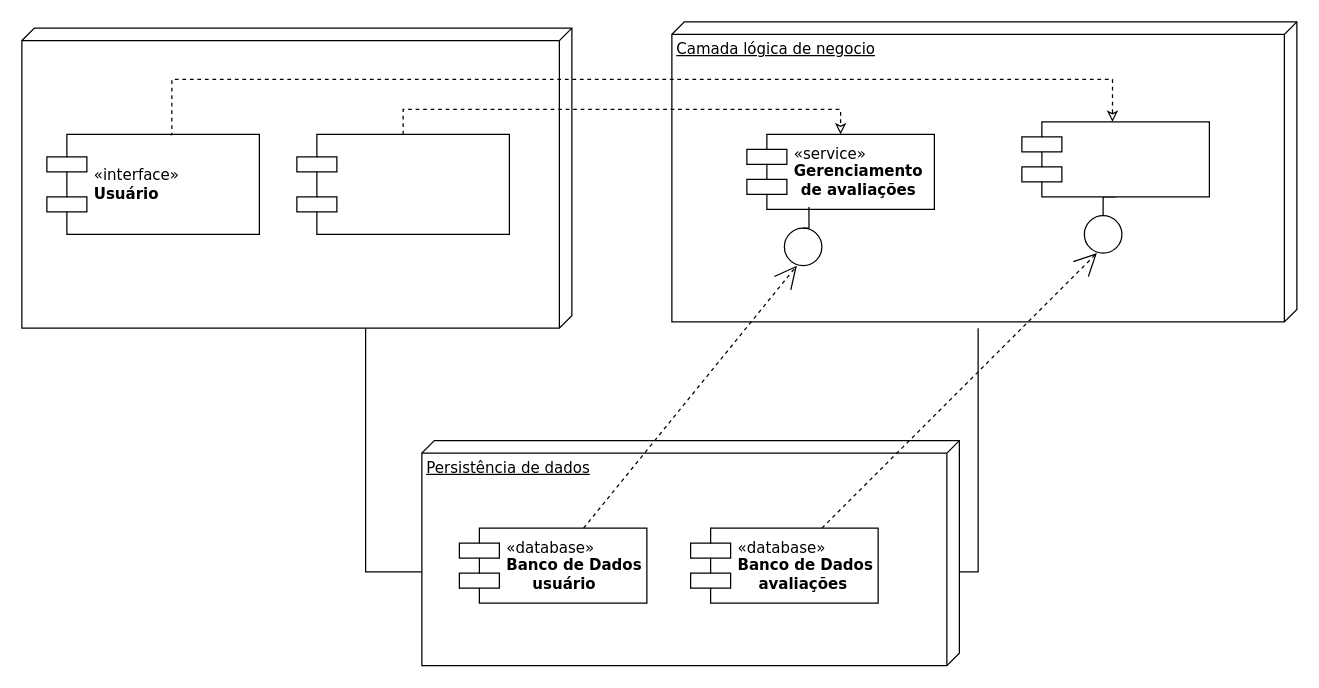
This 1319x688 diagram has some shape labels left out. The shapes that lost their labels are listed below. From the top down, each one's box as (x1, y1, x2, y2) in pixels, then its label:
(21, 27, 572, 328): Camada de apresentação
(1021, 121, 1209, 197): «service» Gerenciamento de usuário
(296, 133, 509, 234): «interface» Responsividade e acessibilidade
